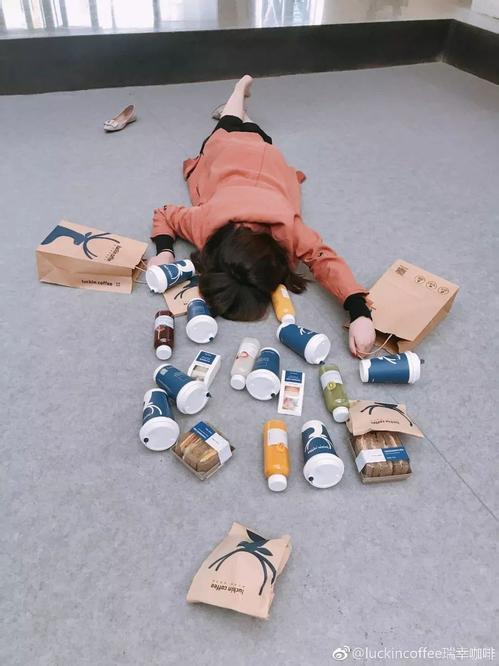Fall-Detected: (130, 64, 428, 383)
